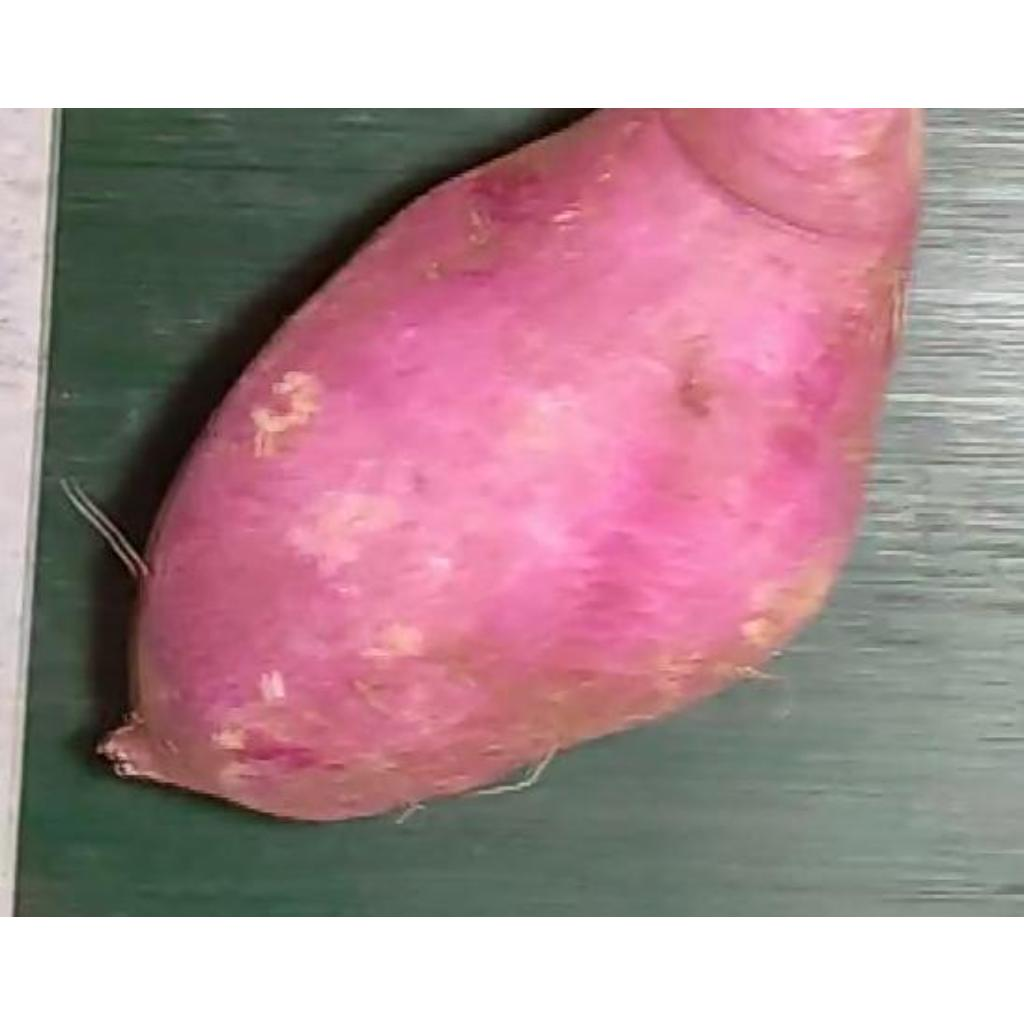Sweet Potato: (99, 107, 925, 826)
